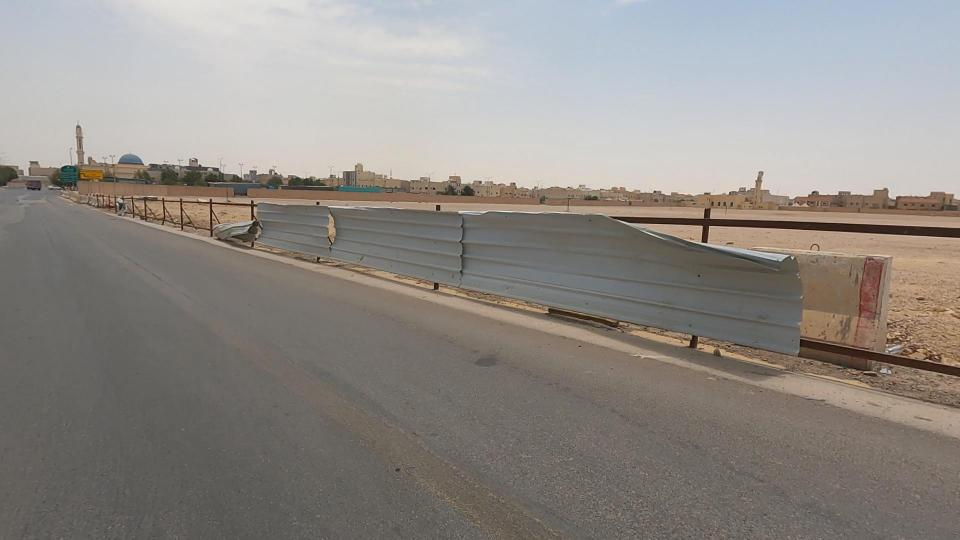CONSTRUCTION_ROAD: (157, 126, 960, 437), (105, 167, 331, 274)
